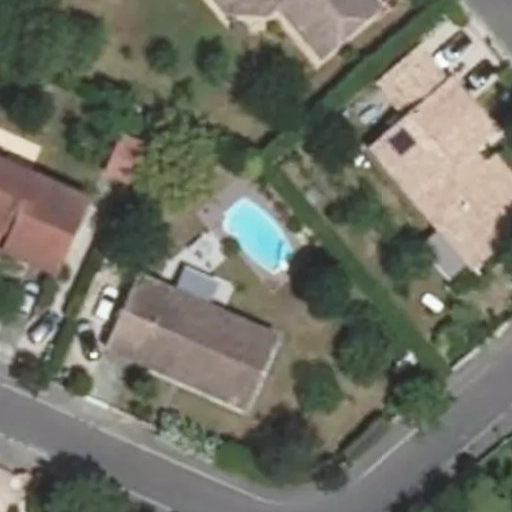pool: (222, 228, 289, 255)
